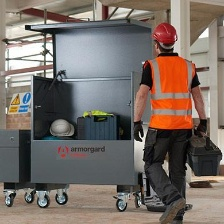helmet: (150, 22, 181, 48)
person: (137, 21, 208, 219)
vest: (147, 51, 195, 130)
